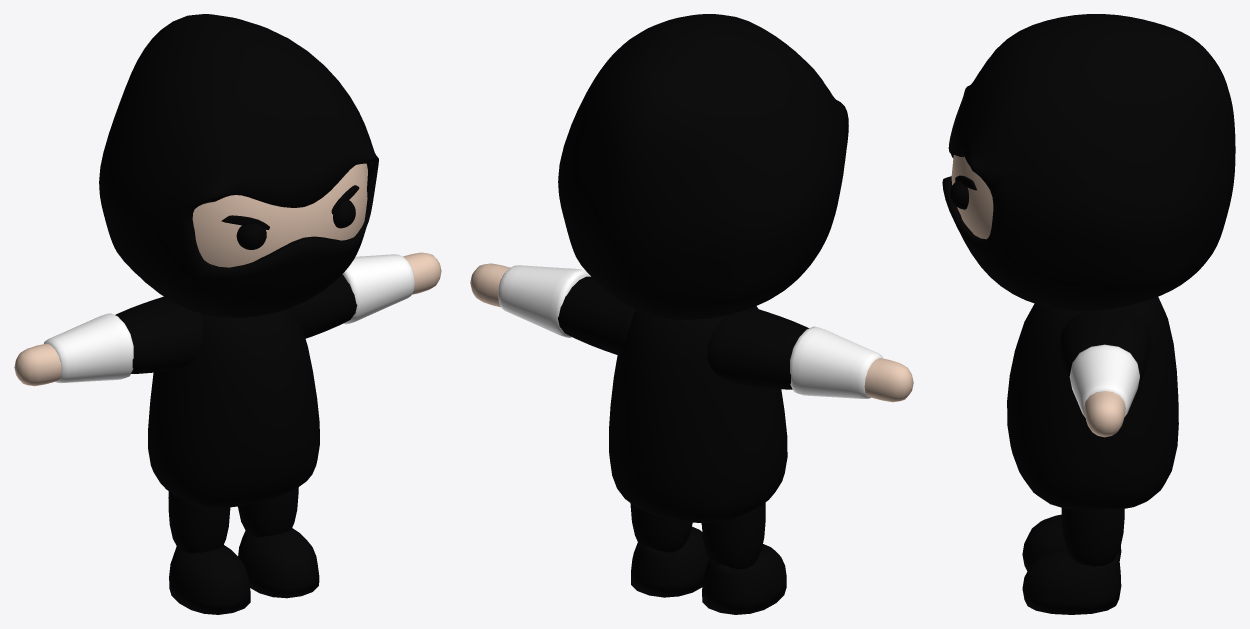
3 views of the same model, side by side, from view 1: azimuth 30°, elevation 25°; view 2: azimuth 150°, elevation 25°; view 3: azimuth 270°, elevation 25° (orthographic). The views are drawn at different scales.
Parts seen in each view (by area): view 1: Cube.002, Cube.004, Cube.008, Cube.006, Cube.009, Cube.001, Cube.007, Sphere, Plane; view 2: Cube.002, Cube.004, Cube.008, Cube.009, Cube.006, Cube.007; view 3: Cube.002, Cube.004, Cube.006, Cube.008, Cube.009, Cube.007, Cube.001, Sphere.
Boxes of the visible parts, x1,y1,x2,y2 form: Cube.002: (99, 14, 378, 317); Cube.004: (148, 307, 319, 508); Cube.008: (14, 252, 441, 386); Cube.006: (169, 528, 319, 614); Cube.009: (44, 254, 414, 383); Cube.001: (192, 163, 367, 267); Cube.007: (168, 487, 298, 553); Sphere: (236, 200, 355, 249); Plane: (221, 185, 359, 229); Cube.002: (558, 14, 848, 319); Cube.004: (609, 306, 787, 523); Cube.008: (470, 263, 913, 402); Cube.009: (498, 265, 883, 398); Cube.006: (631, 526, 786, 614); Cube.007: (630, 502, 765, 569); Cube.002: (942, 14, 1235, 310); Cube.004: (1007, 297, 1178, 509); Cube.006: (1022, 514, 1121, 614); Cube.008: (1059, 308, 1151, 437); Cube.009: (1069, 344, 1139, 417); Cube.007: (1061, 508, 1124, 566); Cube.001: (951, 155, 993, 239); Sphere: (950, 154, 968, 209).
Size of the model in its own units: 411 by 509 by 241.
